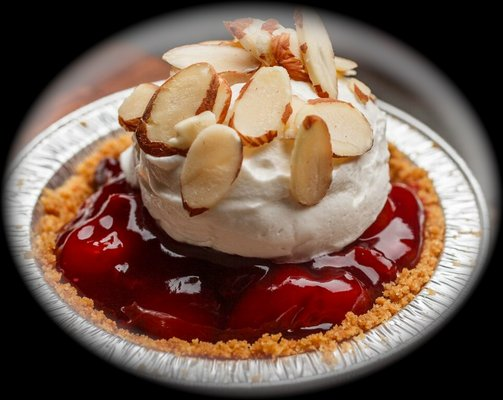pasta: (180, 124, 243, 213), (161, 40, 260, 73)
